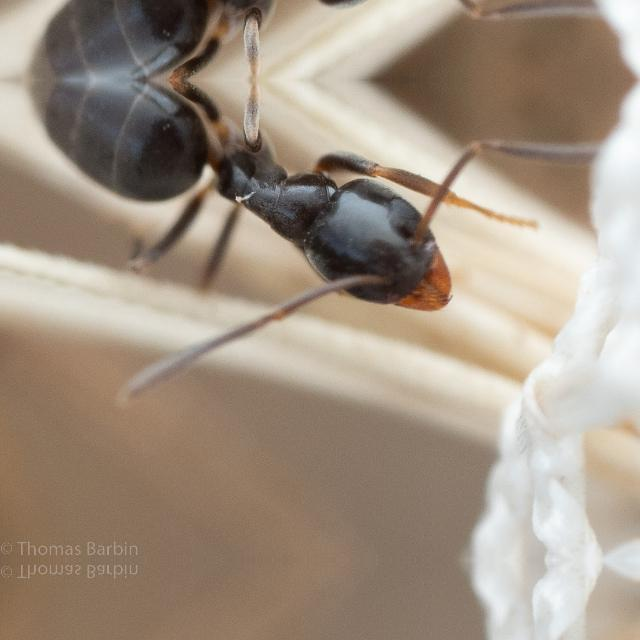Tapinoma: (7, 80, 525, 354), (7, 0, 525, 80)
